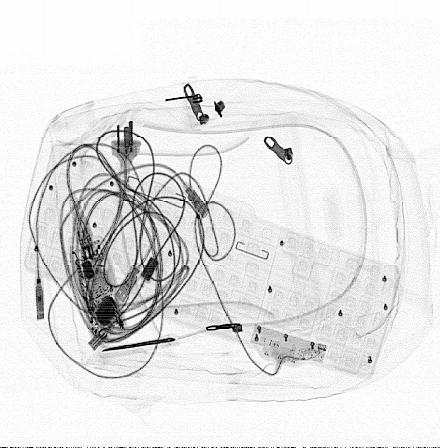Knife: (101, 338, 176, 352)
